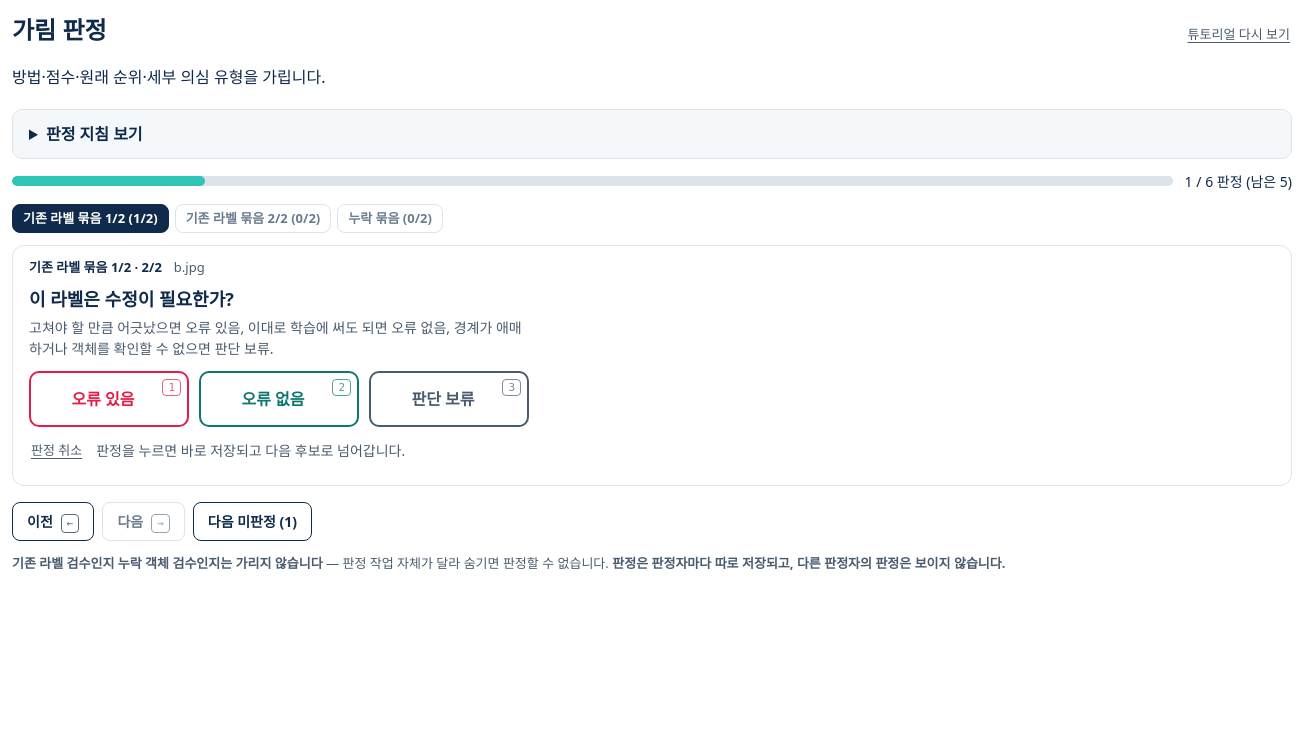
Test: 묶음 경계 › 저장이 실패하면 묶음 끝 후보에 남고 묶음 완료 화면을 띄우지 않는다
Expected: the text "b.jpg" is shown, top-left (174, 258), bottom-right (205, 278)
Click the button "오류 있음" at (109, 398), box top-left (29, 370), bottom-right (189, 426)
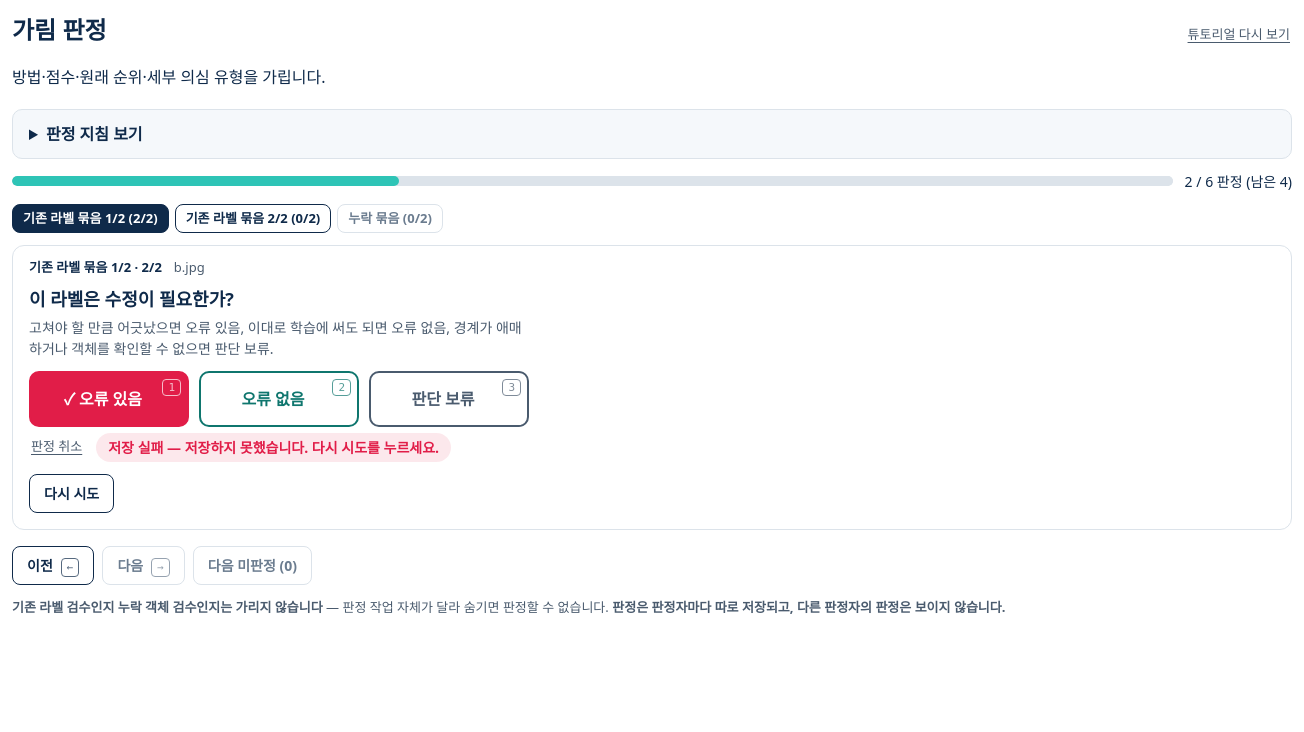
Expected: the text "b.jpg" is shown, top-left (174, 258), bottom-right (205, 278)
Now the text "저장 실패 — 저장하지 못했습니다. 다시 시도를 누르세요." is shown, box top-left (96, 432), bottom-right (451, 462)
Click the button "다시 시도" at (72, 493), box top-left (29, 474), bottom-right (114, 512)
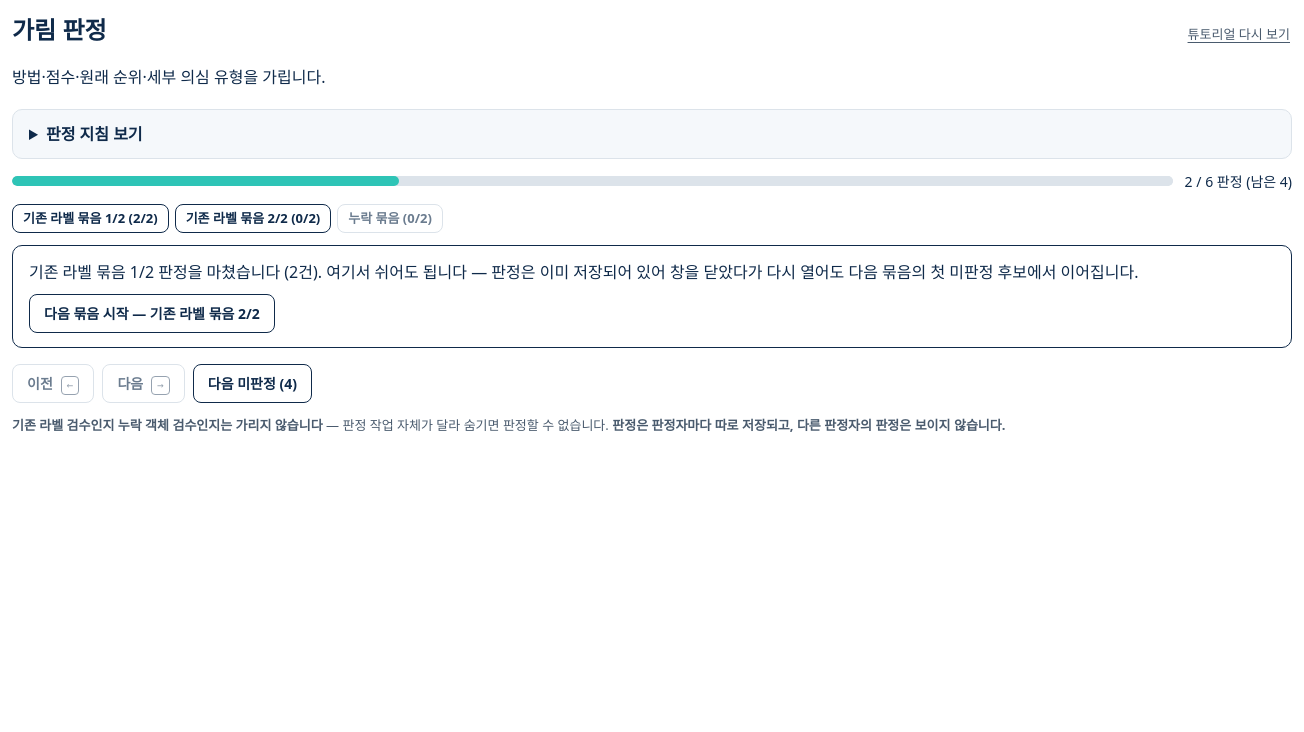
Now the text "기존 라벨 묶음 1/2 판정을 마쳤습니다" is shown, box top-left (29, 261), bottom-right (1138, 283)
